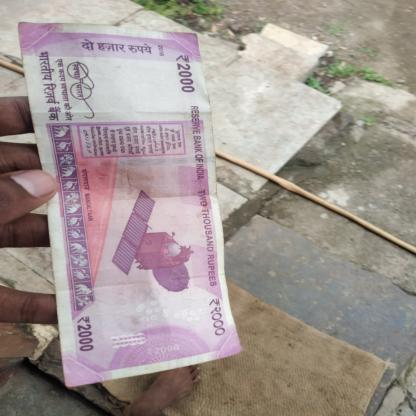New2000Back: (23, 21, 238, 371)
